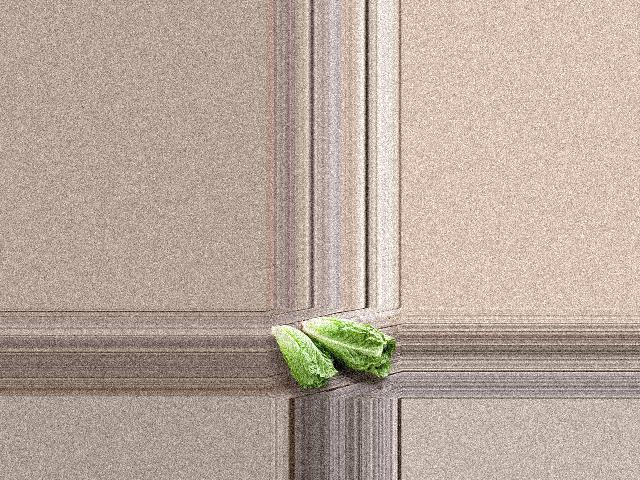lettuce: (266, 322, 338, 394)
